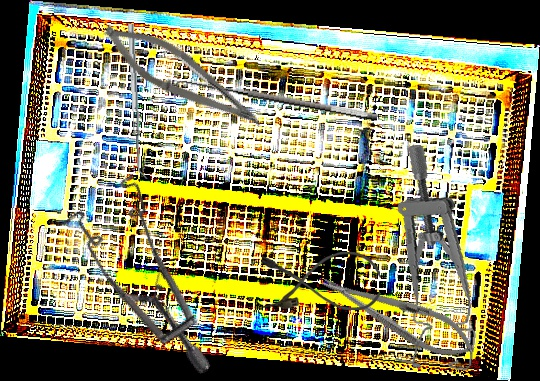Cannula: (262, 252, 380, 310)
Hook Surgical: (173, 72, 379, 138)
Micro Scissor: (91, 11, 276, 140)
Needle Holder: (315, 262, 482, 369)
Spatula Surgical: (127, 23, 149, 180)
Speculum: (33, 156, 275, 377), (375, 143, 502, 376)
